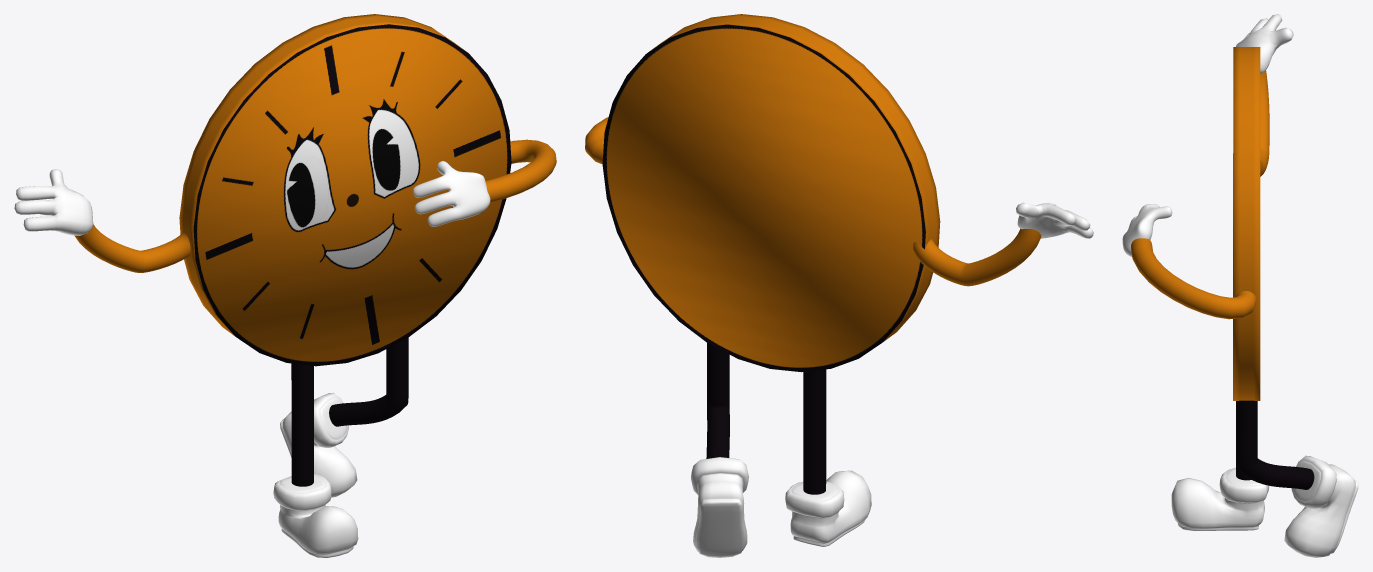
Rendered from miss_minutes-1.glb.
3 views of the same model, side by side, from view 1: azimuth 30°, elevation 25°; view 2: azimuth 150°, elevation 25°; view 3: azimuth 270°, elevation 25° (orthographic). The views are drawn at different scales.
Visible parts, largest first — view 1: ARM L.001; view 2: ARM L.001; view 3: ARM L.001.
Boxes of the visible parts, x1=… form: ARM L.001: x1=14, y1=14, x2=556, y2=557; ARM L.001: x1=585, y1=14, x2=1093, y2=557; ARM L.001: x1=1122, y1=14, x2=1358, y2=557.
Bounding box in the file's own units: 0.3359 × 0.3131 × 0.1387.
Materials: 1 (1 with a texture image).
